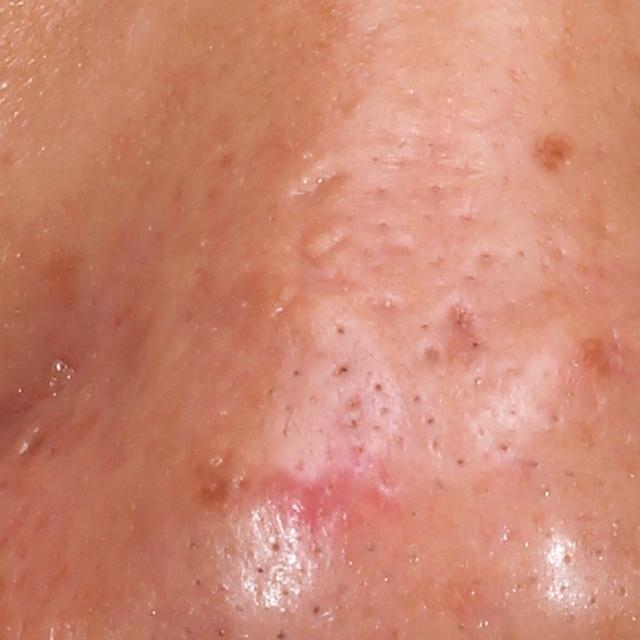atrophic_scar: (296, 234, 361, 297), (444, 299, 489, 378), (290, 160, 351, 201), (17, 425, 51, 458)
melasma: (530, 134, 587, 181)
